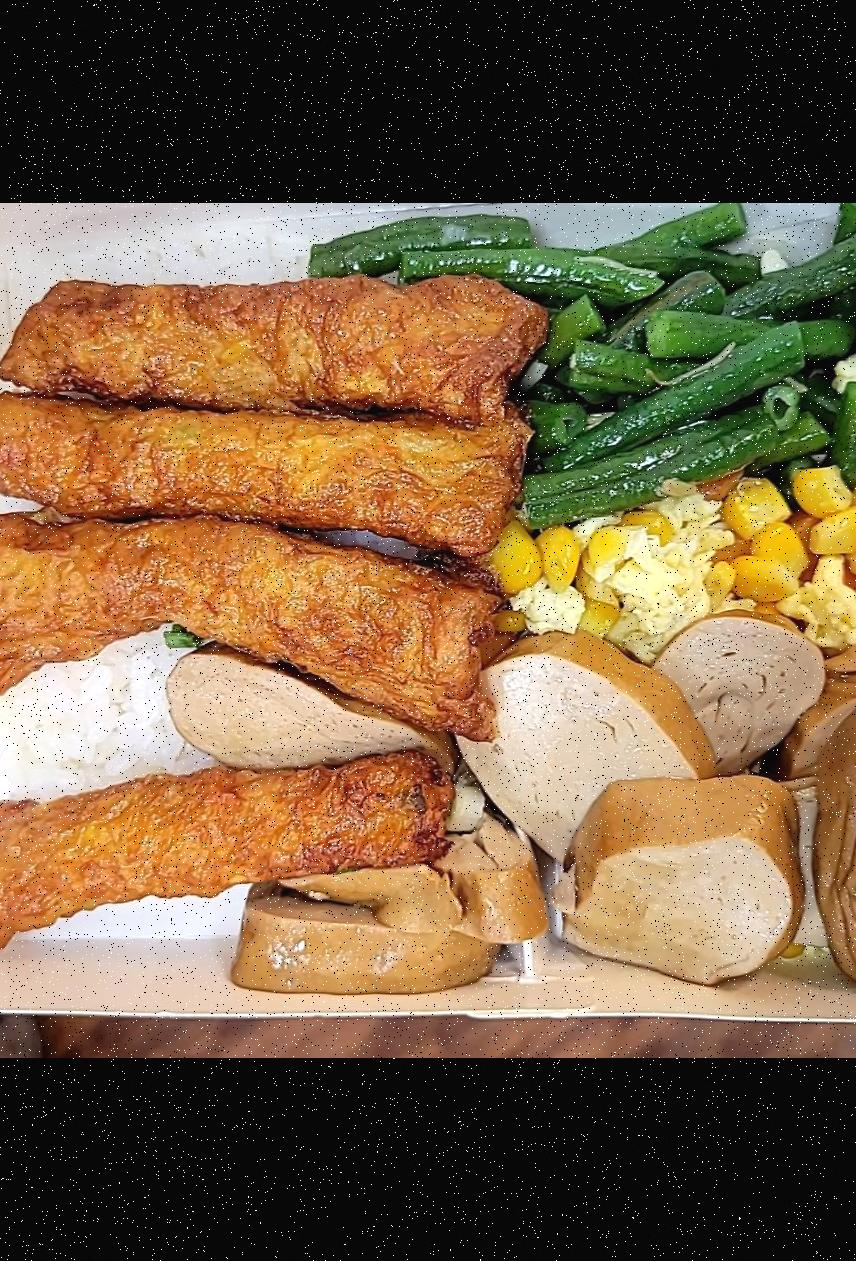box: (0, 203, 856, 1043)
shrimp rolls: (0, 243, 524, 943)
side dish: (166, 649, 856, 983), (482, 226, 856, 512), (515, 471, 856, 658)
white rice: (0, 301, 414, 821)
